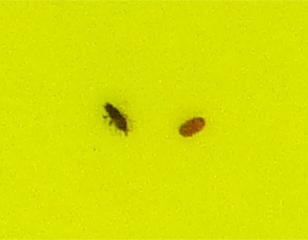Brachycera: (100, 100, 132, 137)
Coleoptera: (175, 113, 208, 140)
